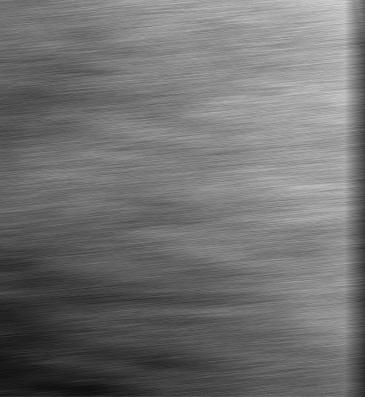Airbag: (0, 1, 365, 396)
